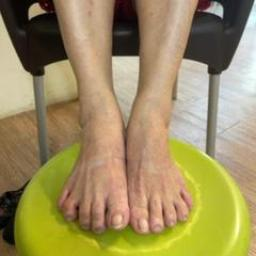Dorsal View -Both Feet-: (37, 67, 219, 250)
